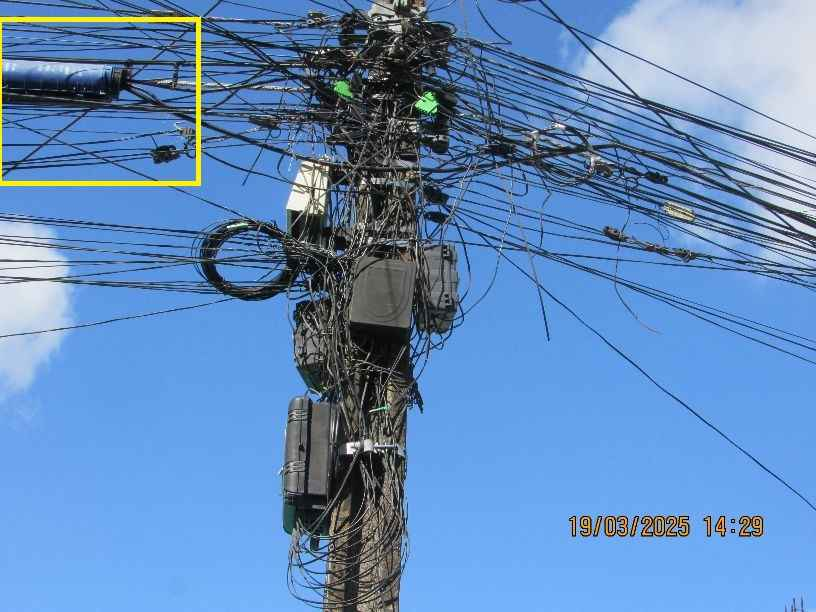18: (0, 51, 137, 105)
caixa_derivacao: (192, 204, 301, 306), (282, 394, 338, 539), (350, 255, 412, 344), (287, 145, 330, 241), (290, 301, 338, 381), (422, 240, 460, 332)
drop: (416, 177, 460, 233), (399, 83, 450, 128), (253, 111, 334, 138), (482, 124, 517, 169), (321, 72, 359, 113), (301, 9, 333, 33)
fibra_optica: (655, 194, 696, 224)
